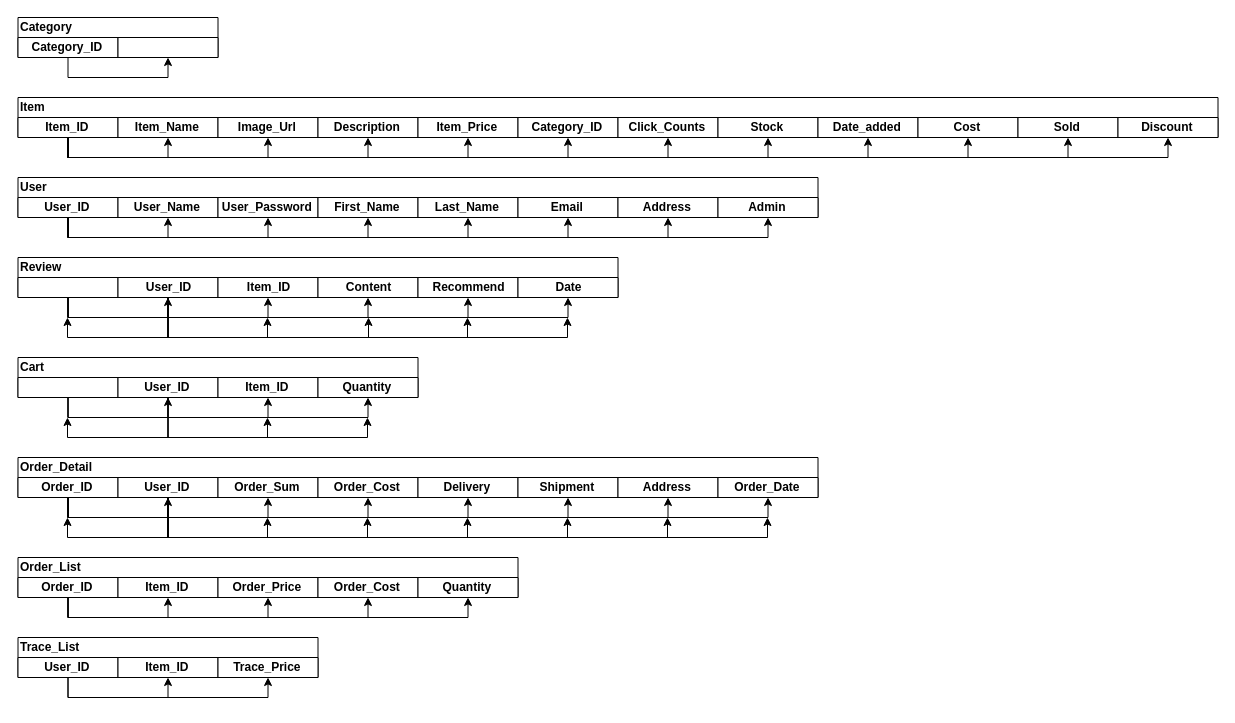
The diagram is 1235 pixels wide and 723 high, and some of its shapes have lost their labels. The shapes that lost their labels are listed below. From the top down, each one's centre as x and y in pixels, then its label:
At (x=167, y=47): "Category_Name".
At (x=67, y=287): "Review _ID".
At (x=67, y=387): "Cart_ID".
